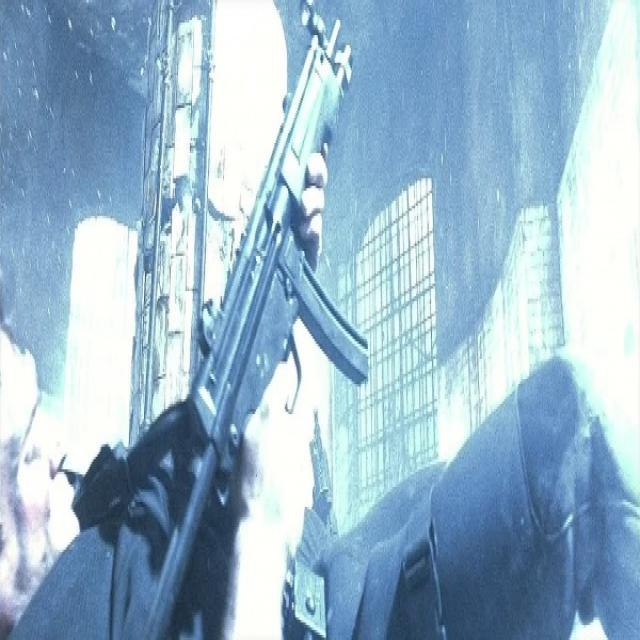rifle: (133, 1, 376, 640)
